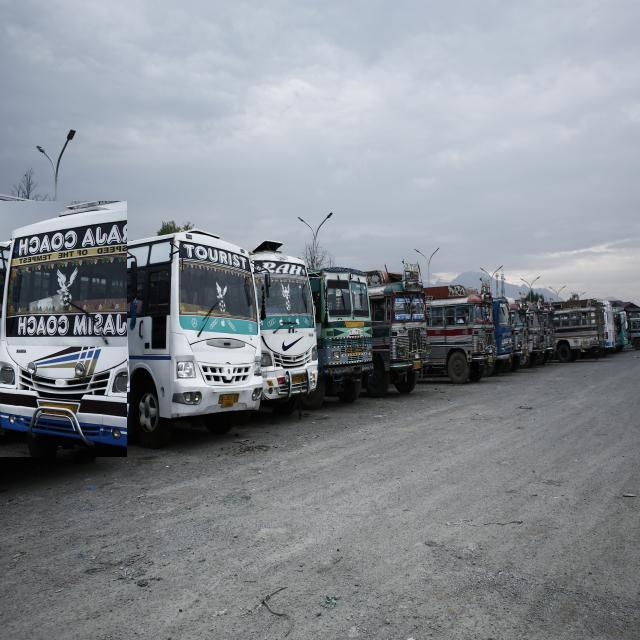bus: (0, 202, 127, 457), (120, 230, 262, 448), (250, 241, 318, 414), (424, 286, 495, 384)
truck: (302, 267, 372, 408), (364, 265, 430, 397)
